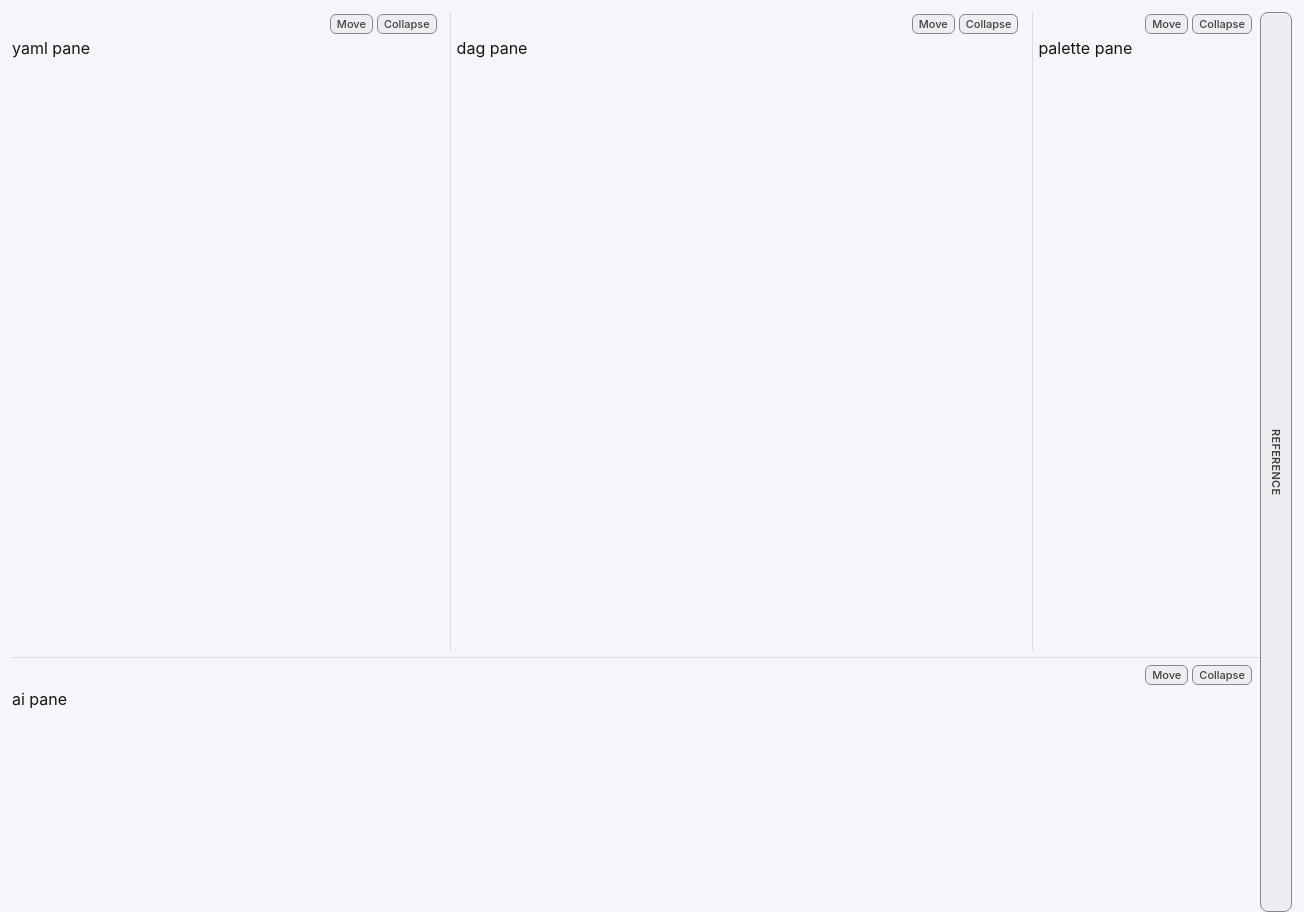
it: LayoutRoot › pane rearrangement (issue #121) › choosing "swap with" from one pane's Move menu re-parents both panes and switches to Custom
Click the 1st button "Move": {"x": 351, "y": 24} [330, 14, 373, 34]
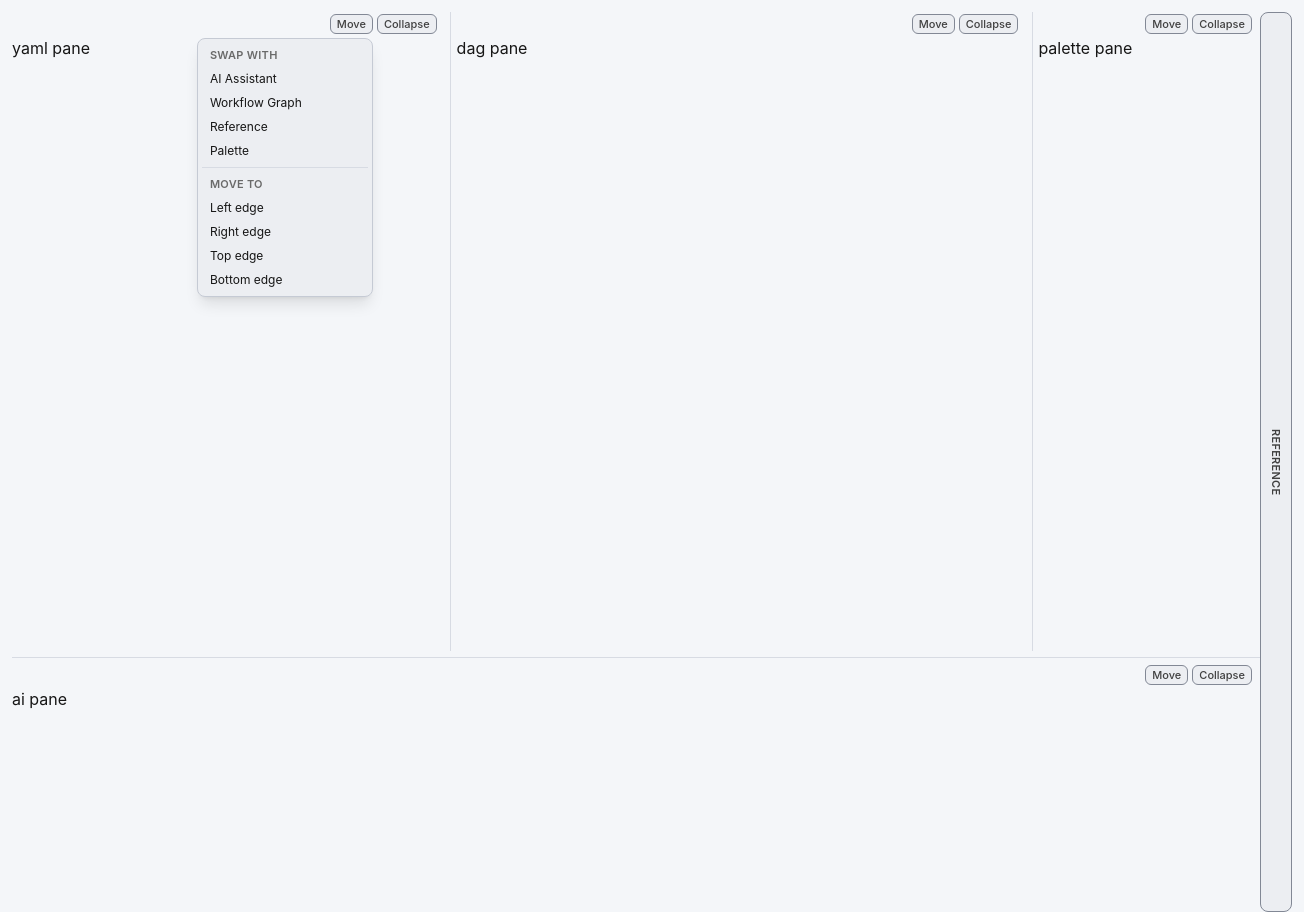
Click the menu item "AI Assistant": {"x": 285, "y": 79} [202, 67, 368, 91]
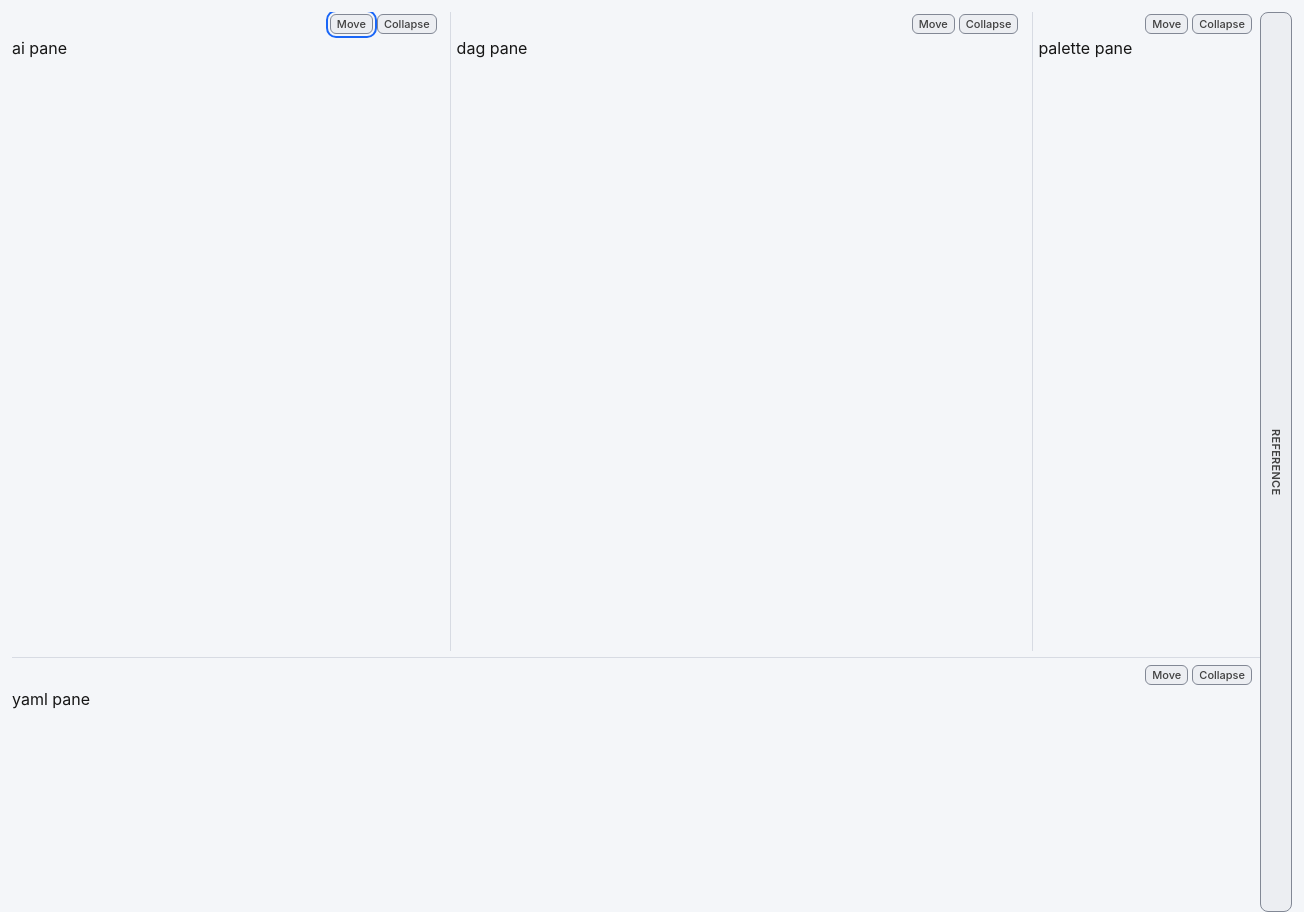
Check: the text "yaml pane" is shown, box [12, 689, 90, 709]
Check: the text "ai pane" is shown, box [12, 38, 67, 58]
